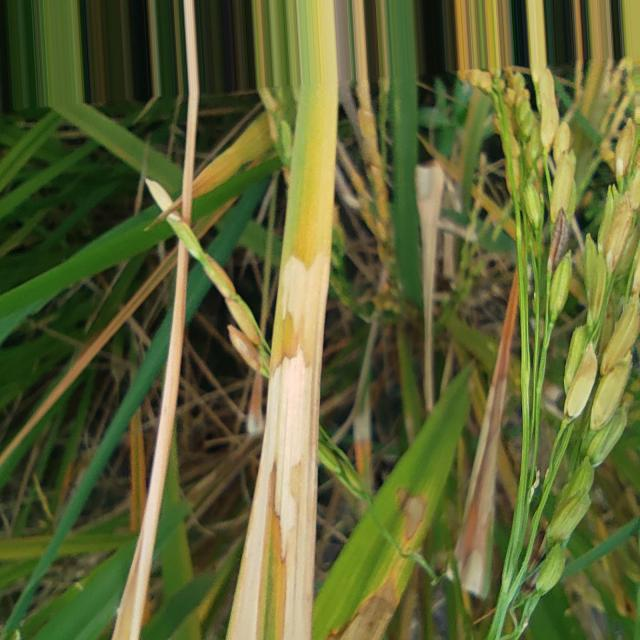Leaf_Blast: (0, 248, 178, 468), (112, 243, 189, 638), (192, 113, 271, 198), (181, 0, 200, 224), (200, 202, 231, 236)
Rice False Smut: (229, 350, 320, 638), (455, 387, 505, 598), (276, 258, 329, 356), (340, 578, 398, 640), (396, 488, 426, 542)
